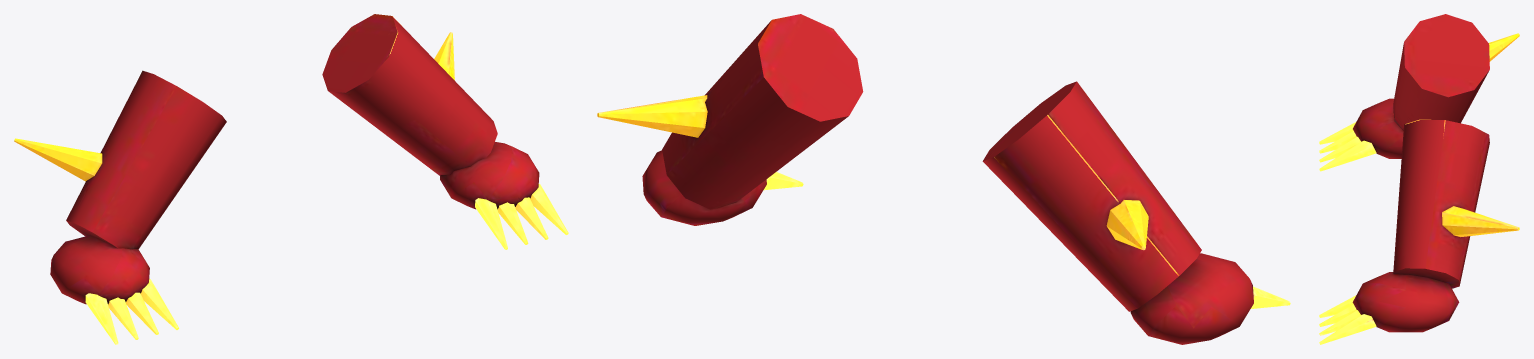
File: dragon_patas.glb
3 views of the same model, side by side, from view 1: azimuth 30°, elevation 25°; view 2: azimuth 150°, elevation 25°; view 3: azimuth 270°, elevation 25° (orthographic). The views are drawn at different scales.
Visible parts, largest first — view 1: dragon_patas; view 2: dragon_patas; view 3: dragon_patas.
Part boxes in pixels (x1=…): dragon_patas: x1=14, y1=14, x2=568, y2=344; dragon_patas: x1=597, y1=14, x2=1290, y2=344; dragon_patas: x1=1319, y1=14, x2=1519, y2=344.
Bounding box in the file's own units: 2.42 × 0.9558 × 0.9784.
Materials: 1 (1 with a texture image).
